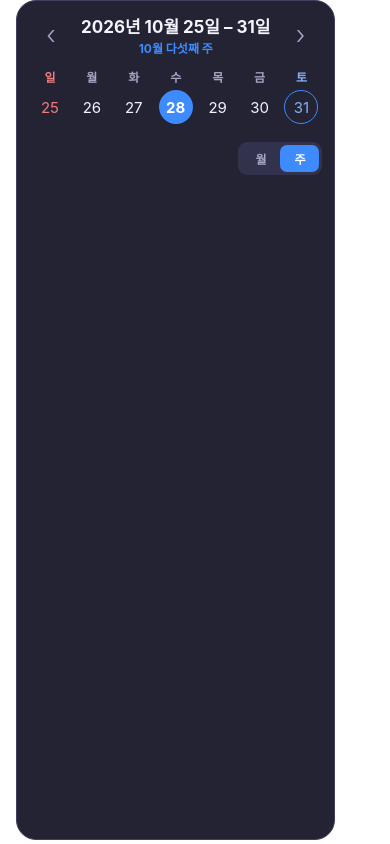
it: Calendar 주 보기 / 모드 토글 / 보이는 기간 › 주 보기에서 › 는 한 주 뒤로, 달이 바뀌면 양쪽 달을 표기
Check: the text "2026년 10월 25일 – 31일" is shown, box [81, 13, 270, 38]
Click the text "›". click: (300, 34)
box: [296, 19, 305, 50]
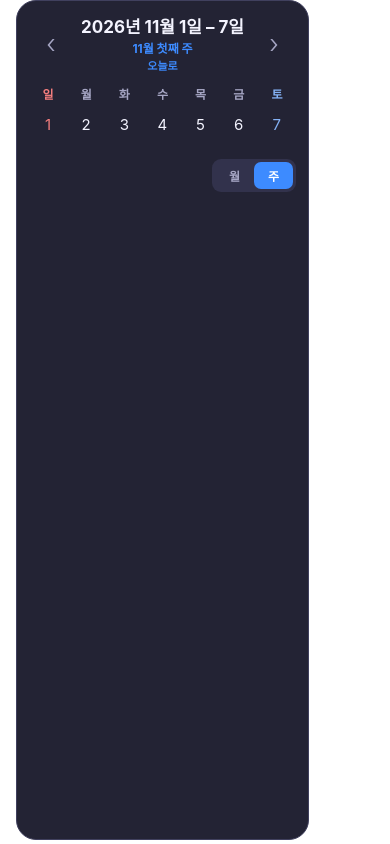
Check: the text "2026년 11월 1일 – 7일" is shown, box [81, 13, 244, 38]
Click the text "‹". click: (51, 43)
box: [46, 28, 56, 58]
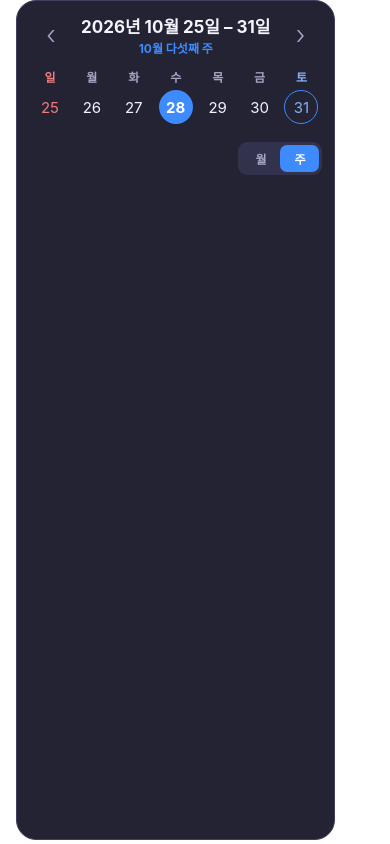
Click the text "‹". click: (51, 34)
box: [46, 19, 56, 50]
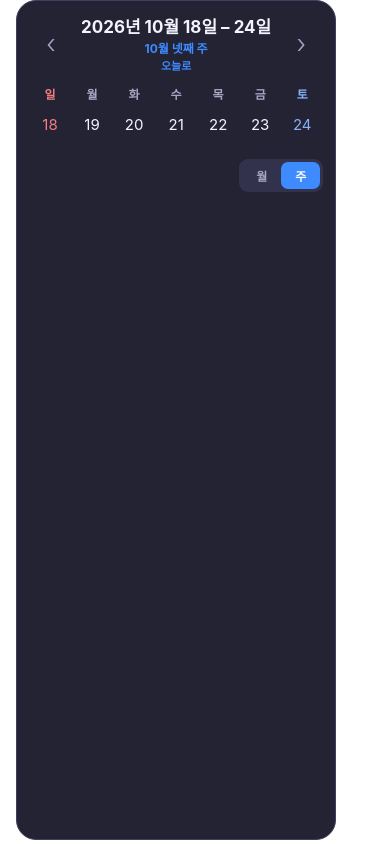
Check: the text "2026년 10월 18일 – 24일" is shown, box [81, 13, 271, 38]
